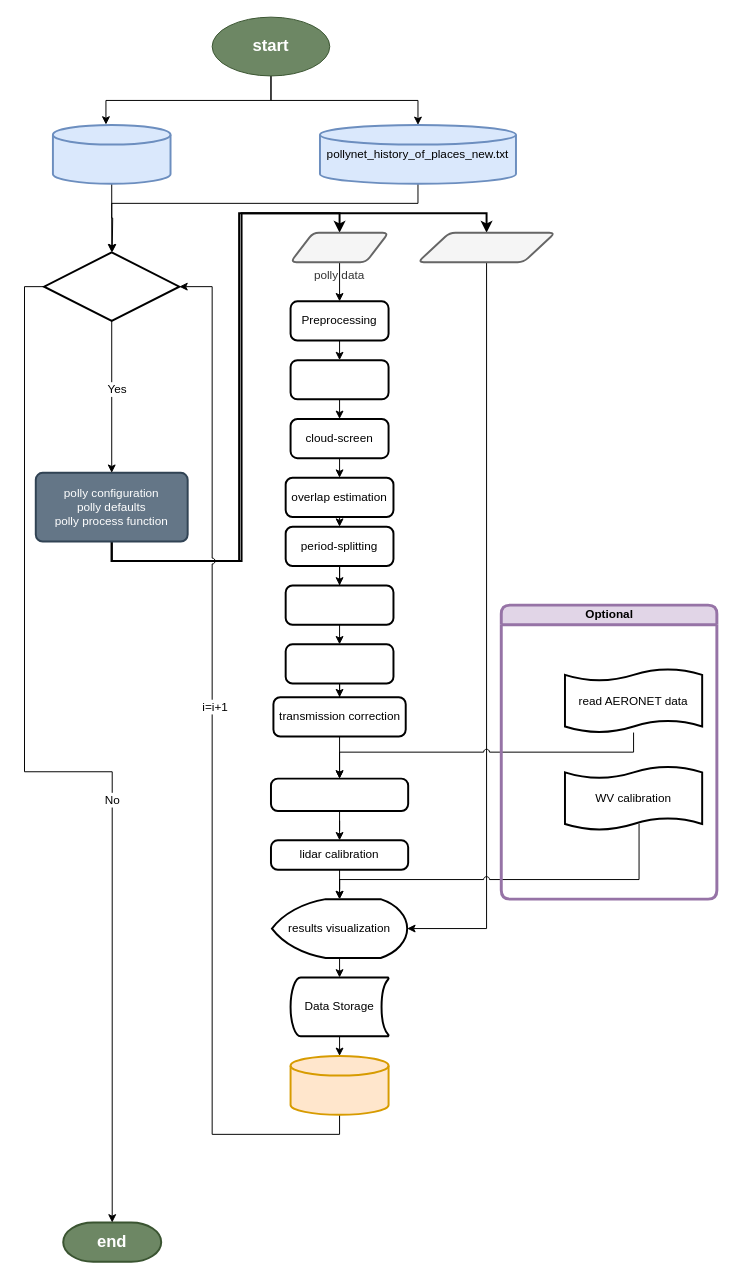
The diagram is 735 pixels wide and 1280 high, and some of its shapes have lost their labels. The shapes that lost their labels are listed below. From the top down, each one's centre as x and y in pixels, then its label:
At [111,153]: "file_infonew.txt".
At [486,247]: "polly laserlogbook".
At [111,286]: "ith task < N task".
At [339,379]: "Depol-calibration".
At [339,604]: "read meteor data".
At [339,663]: "rayleigh fitting".
At [339,794]: "klett or raman retrieving".
At [339,1084]: "Done list file".
